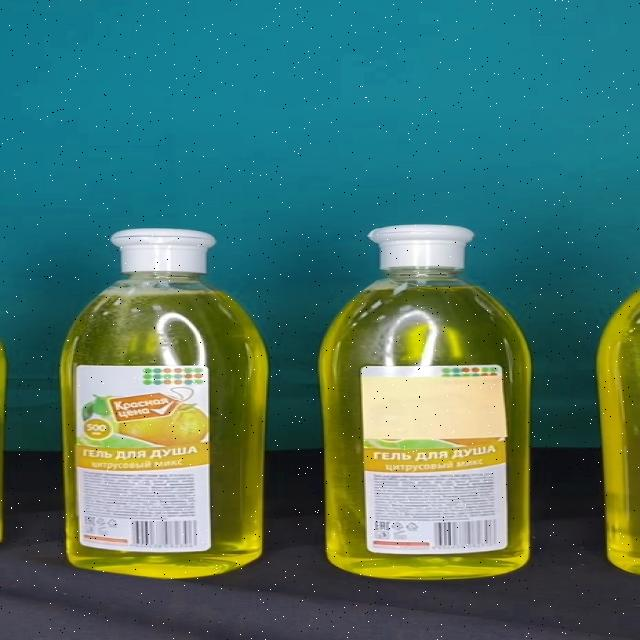Bottle: (317, 225, 530, 579), (59, 228, 270, 579)
Cap: (368, 225, 473, 269), (110, 229, 217, 272)
